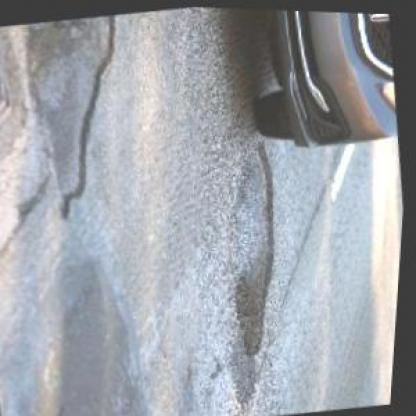pothole: (209, 137, 305, 358)
